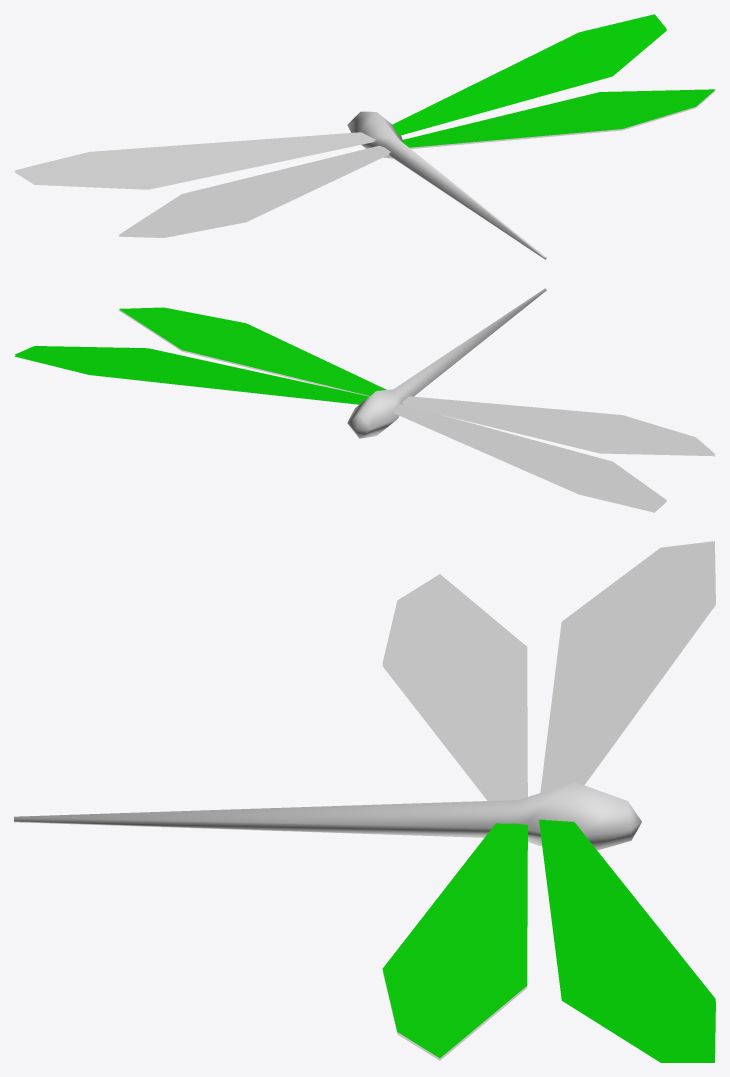
Rendered from dragonfly.fbx.
The picture shows the model from 3 angles, top to bottom: view 1: azimuth 30°, elevation 25°; view 2: azimuth 150°, elevation 25°; view 3: azimuth 270°, elevation 25°; orthographic projection. The views are drawn at different scales.
Parts seen in each view (by area): view 1: dragonflyWing.L.LOD0, dragonflyWing.R.LOD0, dragonfly_LOD00; view 2: dragonflyWing.L.LOD0, dragonflyWing.R.LOD0, dragonfly_LOD00; view 3: dragonflyWing.R.LOD0, dragonflyWing.L.LOD0, dragonfly_LOD00.
Part boxes in pixels (x1,y1,x2,y2): dragonflyWing.L.LOD0: (14, 132, 390, 237); dragonflyWing.R.LOD0: (392, 14, 715, 148); dragonfly_LOD00: (347, 111, 546, 259); dragonflyWing.L.LOD0: (392, 396, 715, 512); dragonflyWing.R.LOD0: (14, 307, 386, 404); dragonfly_LOD00: (347, 288, 546, 438); dragonflyWing.R.LOD0: (382, 819, 715, 1062); dragonflyWing.L.LOD0: (382, 541, 715, 800); dragonfly_LOD00: (14, 782, 641, 850).
Size of what is drawn, in the model's own units: 38.98 by 2.63 by 22.27.
